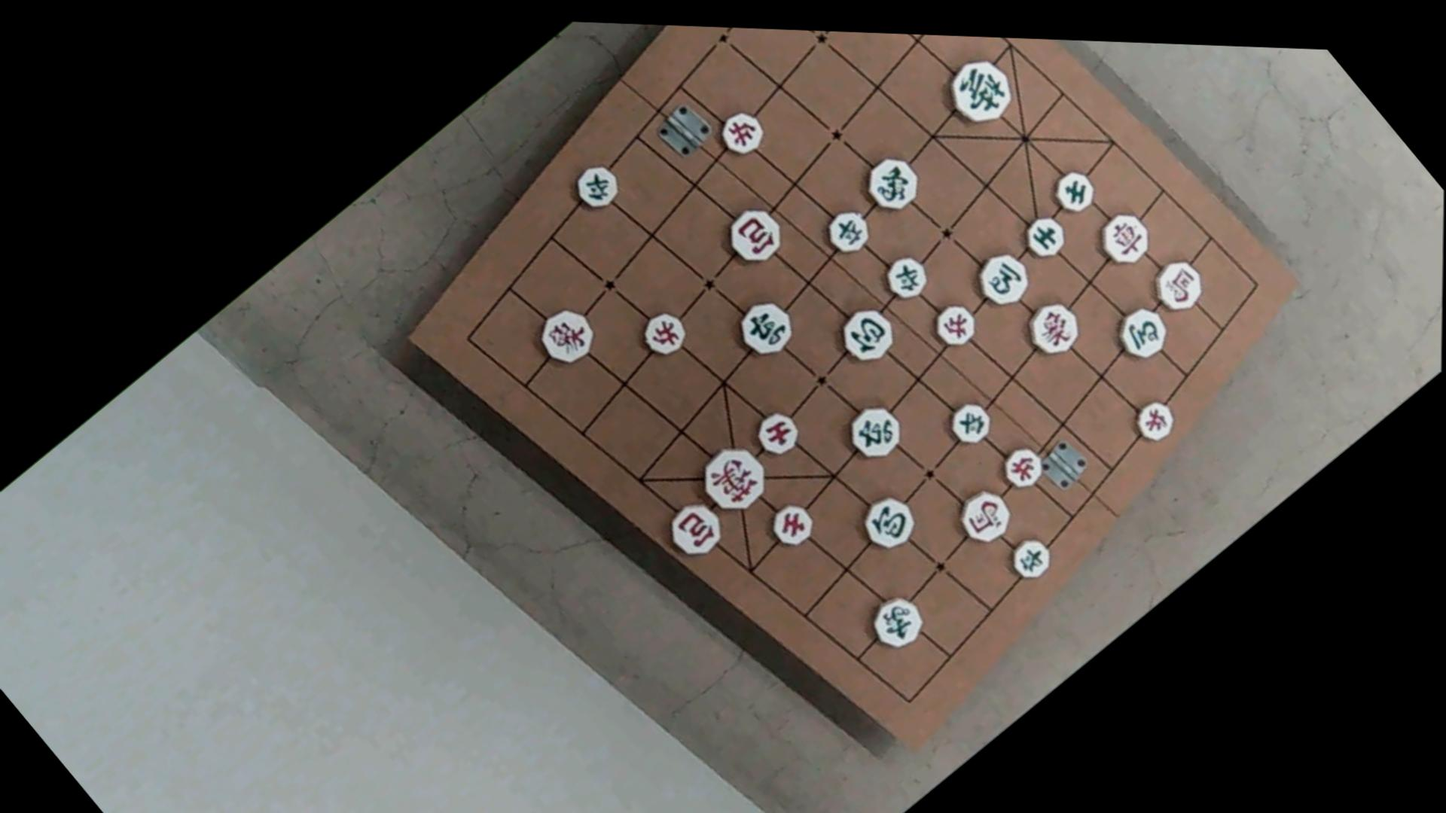cha_green: (726, 292, 798, 364), (835, 396, 905, 467)
cha_red: (1092, 205, 1158, 272)
jol_green: (819, 202, 877, 261), (569, 157, 624, 215), (943, 393, 998, 449), (875, 248, 930, 303), (1002, 531, 1056, 586)
jol_red: (635, 300, 692, 359), (713, 105, 770, 162), (926, 297, 981, 353), (1127, 395, 1179, 448), (997, 440, 1049, 493)
ma_green: (966, 243, 1035, 313), (1107, 297, 1174, 364)
ma_red: (950, 482, 1017, 550), (1145, 251, 1211, 319)
po_green: (830, 300, 901, 372), (853, 486, 923, 558)
po_red: (717, 196, 789, 271), (658, 492, 731, 565)
sa_green: (1017, 206, 1072, 262), (1046, 166, 1099, 220)
sa_red: (749, 404, 805, 461), (762, 495, 817, 551)
sang_green: (857, 146, 926, 216), (862, 589, 929, 658)
sang_red: (528, 298, 600, 373), (1015, 293, 1084, 364)
wang_green: (936, 48, 1020, 135)
wang_red: (691, 434, 776, 521)
